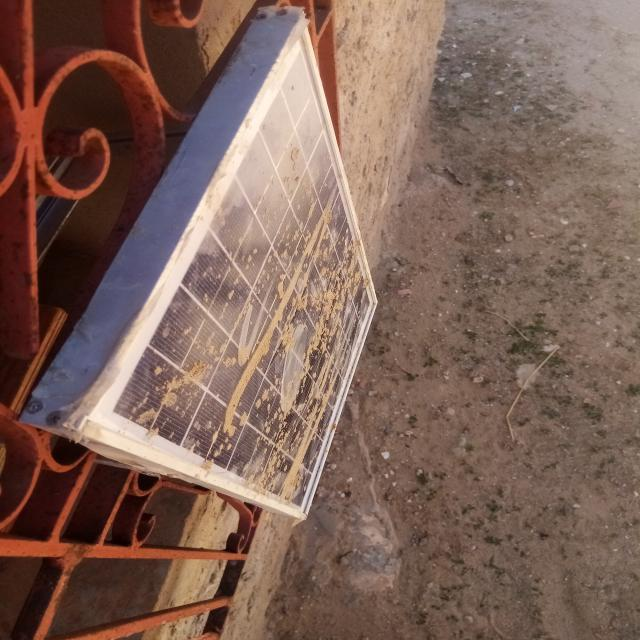faulty: (72, 17, 379, 517)
